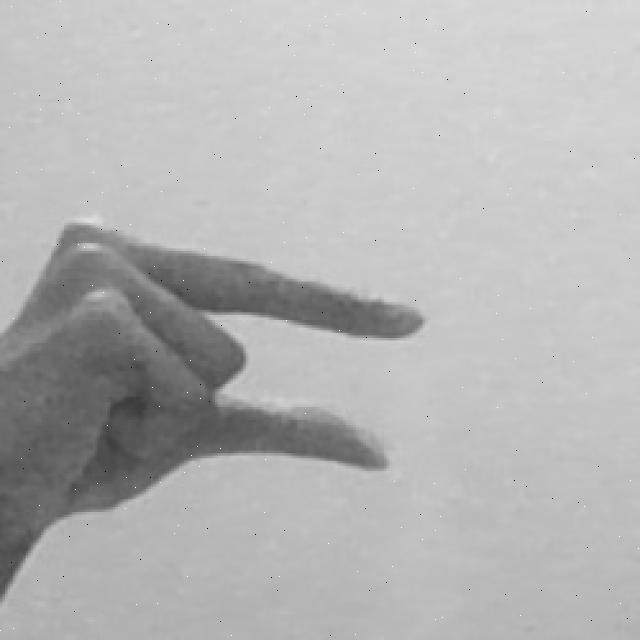G: (0, 215, 430, 637)
